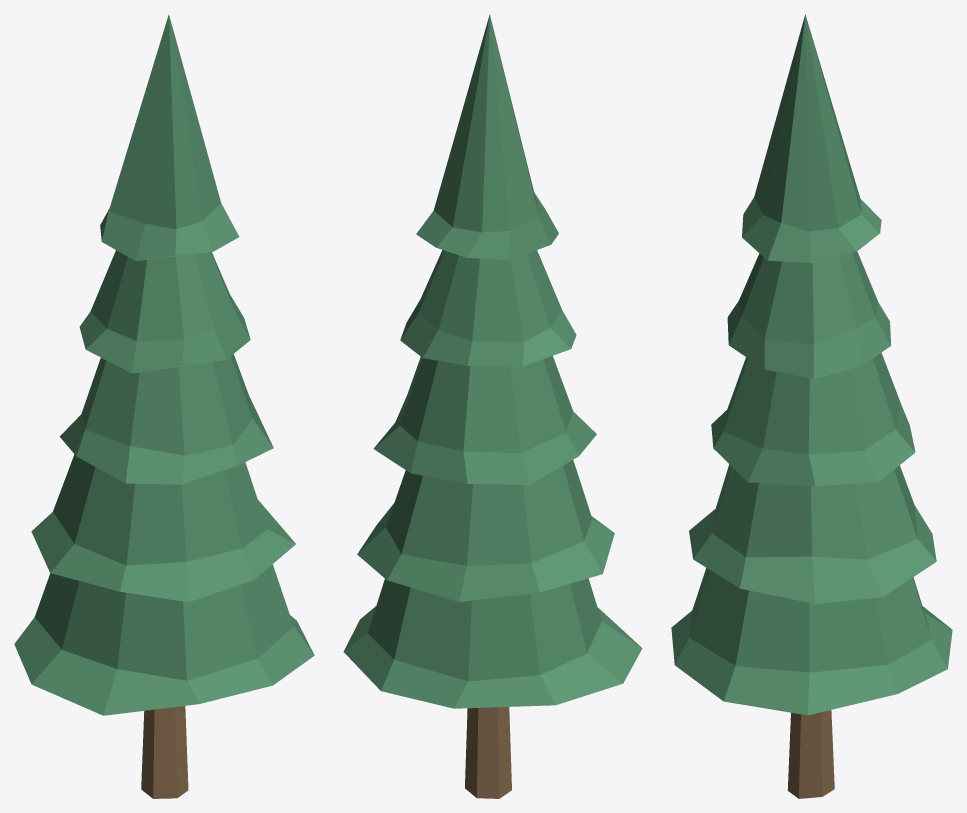
The model's file is tree_pine_b.glb.
The picture shows the model from 3 angles, left to right: view 1: azimuth 30°, elevation 25°; view 2: azimuth 150°, elevation 25°; view 3: azimuth 270°, elevation 25°; orthographic projection.
Parts seen in each view (by area): view 1: tree_pine_b; view 2: tree_pine_b; view 3: tree_pine_b.
Part boxes in pixels (x1,y1,x2,y2): tree_pine_b: (14,14,314,798); tree_pine_b: (343,14,642,798); tree_pine_b: (671,14,952,798).
Size of the model in its own units: 2.43 by 6.82 by 2.24.
